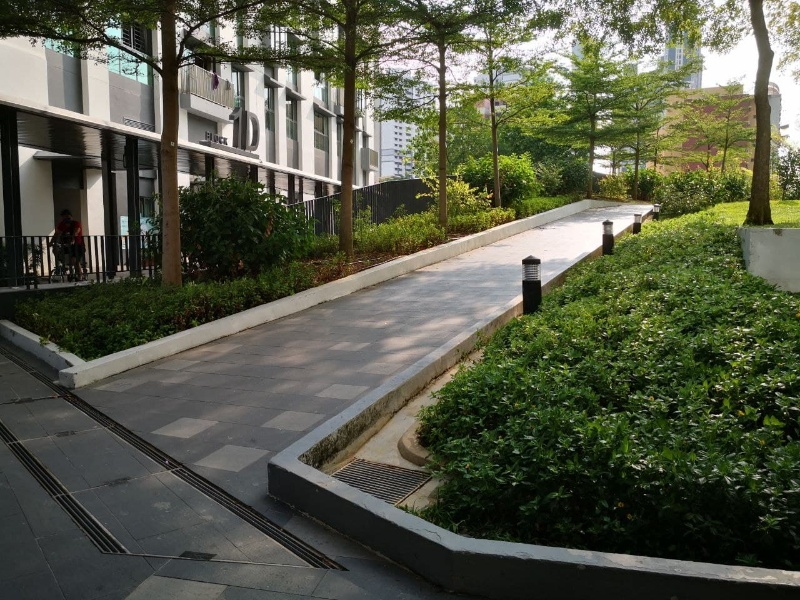slope: (46, 203, 532, 515)
